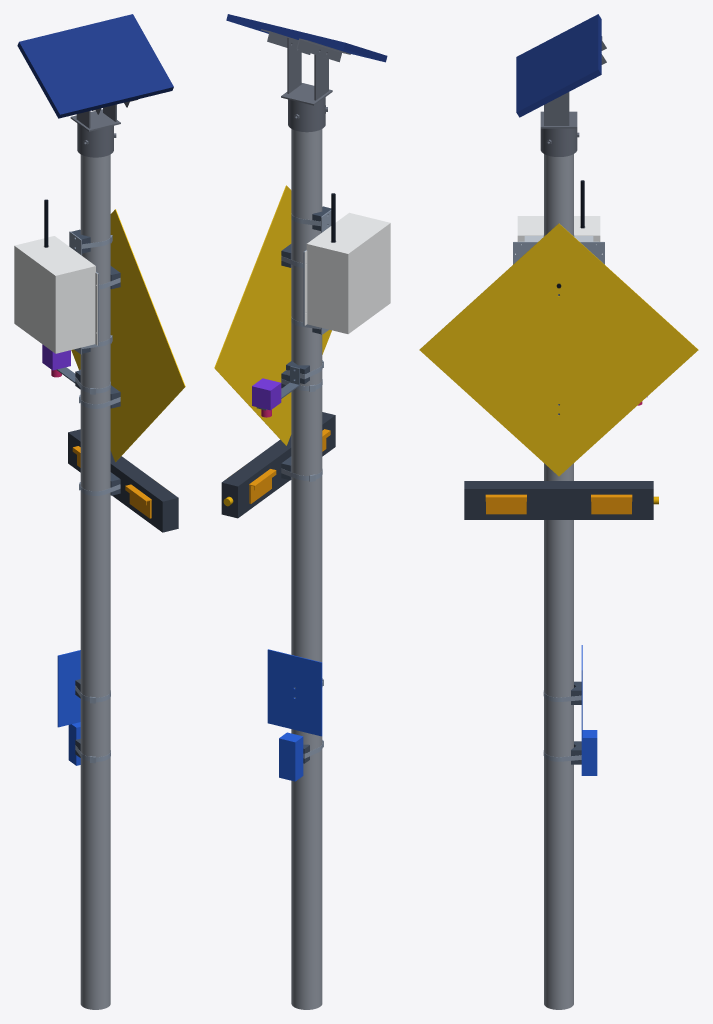
The picture shows the model from 3 angles, left to right: view 1: azimuth 30°, elevation 25°; view 2: azimuth 150°, elevation 25°; view 3: azimuth 270°, elevation 25°; orthographic projection. The views are drawn at different scales.
Visible parts, largest first — view 1: Post, 114.3 mm (or existing pole), Solar panel, 20 W, Crossing warning sign, 750 mm, Ventilated sun shield, Light bar housing, double sided, Push-button station, Panel bracket, Band clamps (8), Keyed pole saddles (8), Amber LED heads (4), Presence radar on arm; view 2: Post, 114.3 mm (or existing pole), Crossing warning sign, 750 mm, Ventilated sun shield, Push-button station, Panel bracket, Light bar housing, double sided, Solar panel, 20 W, Band clamps (8), Keyed pole saddles (8), Presence radar on arm, Amber LED heads (4); view 3: Crossing warning sign, 750 mm, Post, 114.3 mm (or existing pole), Light bar housing, double sided, Solar panel, 20 W, Panel bracket, Amber LED heads (4), Ventilated sun shield, Push-button station.
Part boxes in pixels (x1,y1,x2,y2): Post, 114.3 mm (or existing pole): [80, 154, 110, 1009]; Solar panel, 20 W: [17, 14, 173, 118]; Crossing warning sign, 750 mm: [71, 209, 185, 461]; Ventilated sun shield: [14, 236, 97, 353]; Light bar housing, double sided: [68, 429, 178, 532]; Push-button station: [57, 650, 80, 765]; Panel bracket: [70, 99, 137, 157]; Band clamps (8): [75, 235, 120, 763]; Keyed pole saddles (8): [71, 229, 120, 757]; Amber LED heads (4): [72, 446, 151, 518]; Presence radar on arm: [42, 344, 70, 370]; Post, 114.3 mm (or existing pole): [291, 129, 322, 1009]; Crossing warning sign, 750 mm: [214, 185, 331, 445]; Ventilated sun shield: [304, 212, 390, 333]; Push-button station: [267, 649, 322, 781]; Panel bracket: [261, 29, 350, 132]; Light bar housing, double sided: [221, 412, 335, 518]; Solar panel, 20 W: [226, 14, 387, 62]; Band clamps (8): [281, 213, 323, 758]; Keyed pole saddles (8): [281, 206, 331, 763]; Presence radar on arm: [252, 378, 281, 410]; Amber LED heads (4): [249, 429, 330, 503]; Crossing warning sign, 750 mm: [419, 223, 698, 476]; Post, 114.3 mm (or existing pole): [544, 154, 573, 1009]; Light bar housing, double sided: [464, 481, 653, 519]; Solar panel, 20 W: [516, 14, 601, 117]; Panel bracket: [540, 36, 606, 156]; Amber LED heads (4): [485, 494, 632, 514]; Ventilated sun shield: [514, 216, 603, 254]; Push-button station: [581, 645, 597, 775].
Bounding box in the file's own units: 0.5168 × 4.03 × 1.06.
